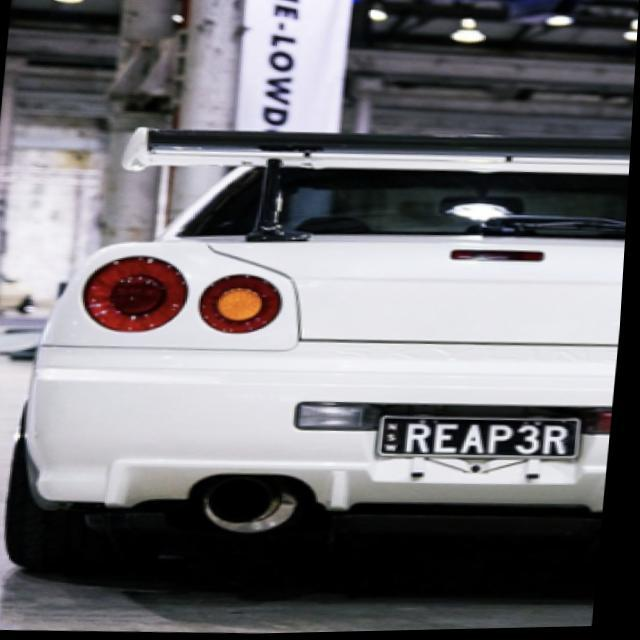license_plate: (382, 413, 584, 464)
